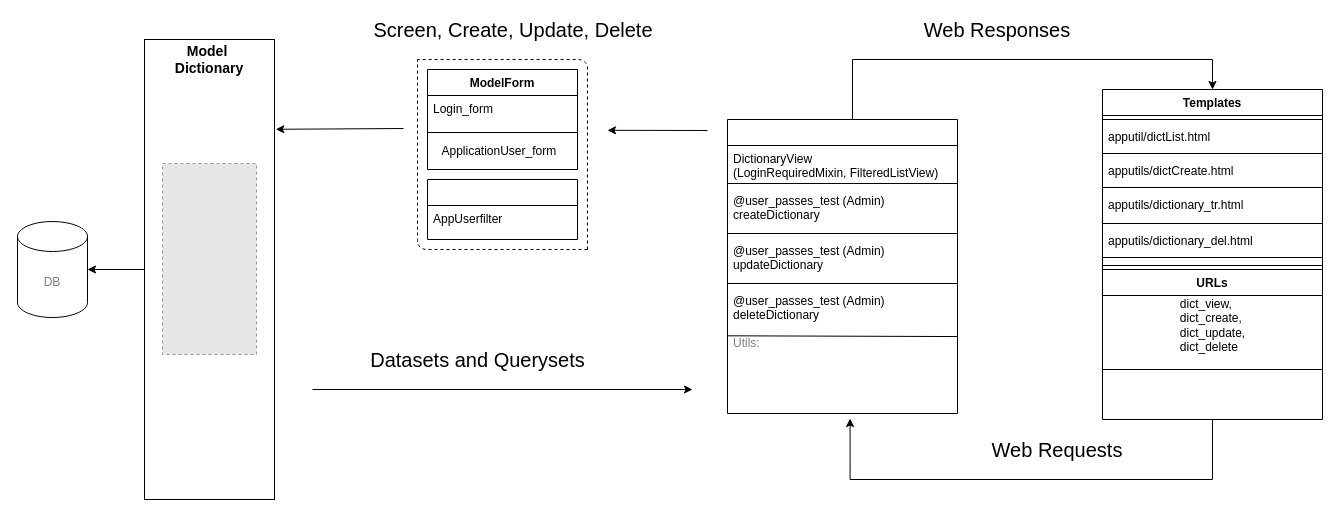
Some shapes in this 1340 by 517 pixel diagram are drawn without their labels. Grey dashed boxes stand in for pictures. Each missing label, with the box of its shape:
Filterset: (426, 178, 578, 240)
Views: (726, 118, 958, 414)
